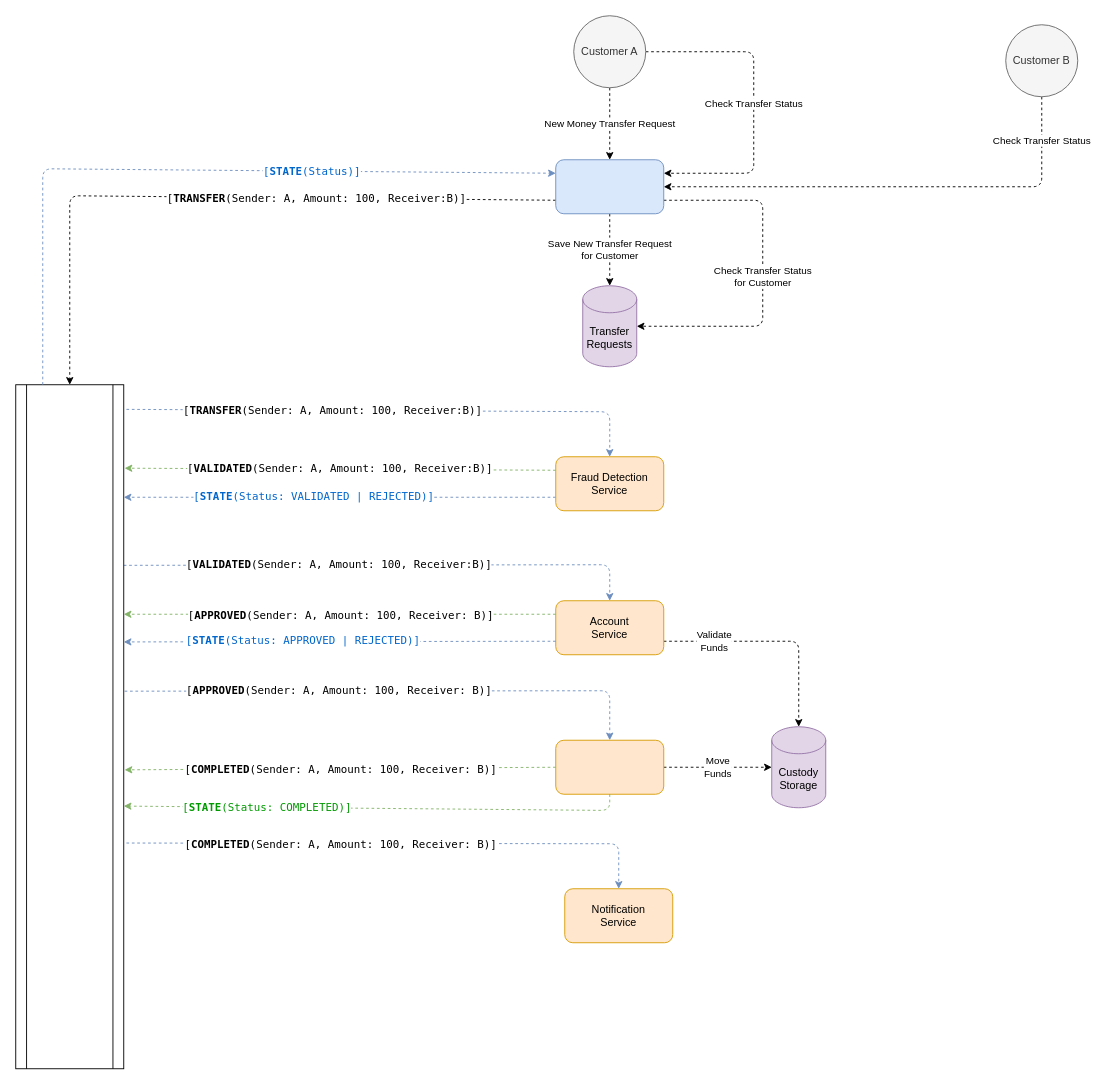
Image size: 1106x1085. Some labels were removed from this diagram. The shapes that lost their labels are listed below. From the top down, each one's box as (x1, y1, x2, y2) in pixels, then its label:
(555, 159, 664, 214): Public API
(15, 384, 124, 1069): Money Transfer Pub/Sub Store
(555, 739, 664, 794): Custody Service
